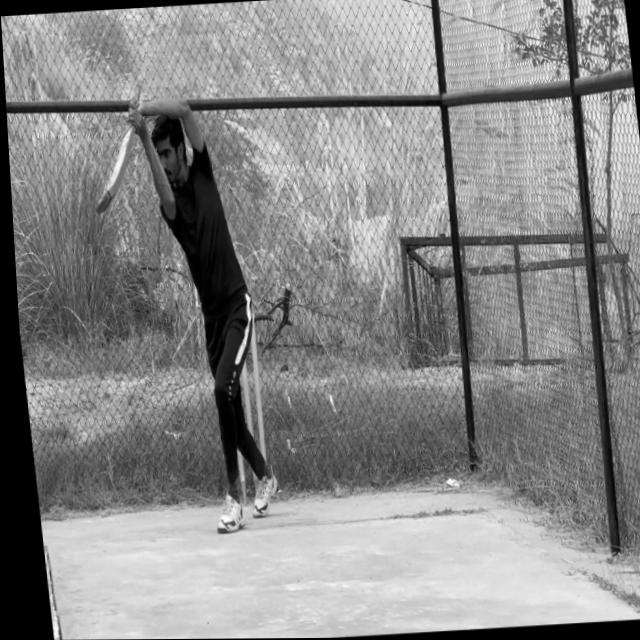Batsman: (120, 72, 293, 544)
